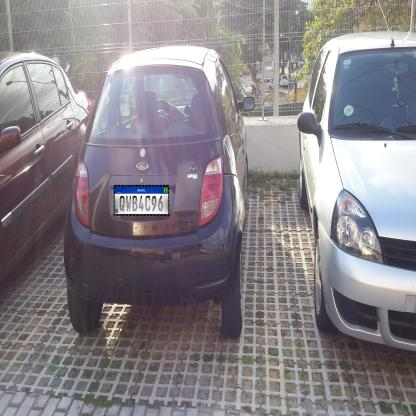PlacaM: (114, 185, 169, 216)
